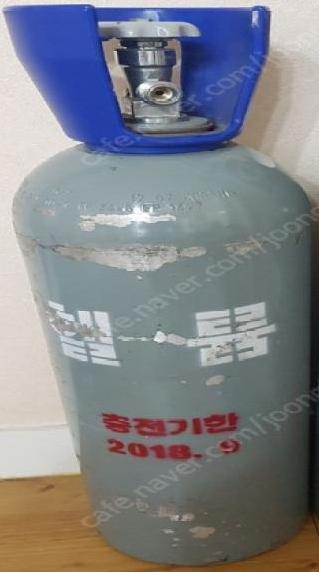cylinder: (1, 1, 319, 572)
